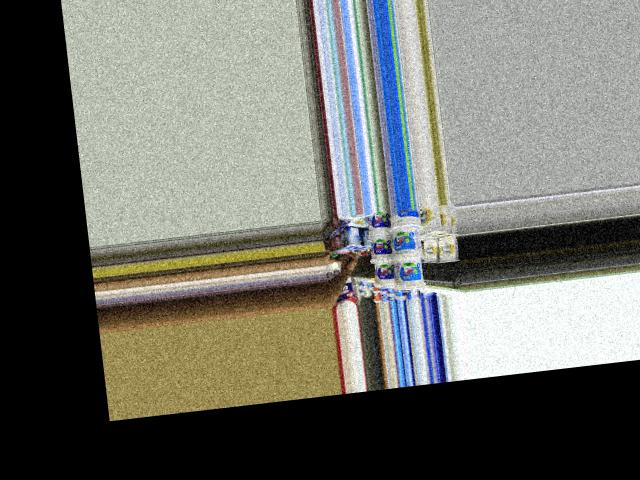cotage: (369, 232, 396, 263)
